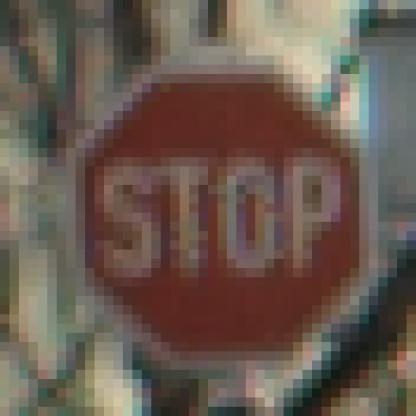stop: (63, 52, 383, 370)
